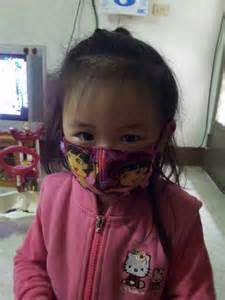OK: (66, 113, 158, 194)
